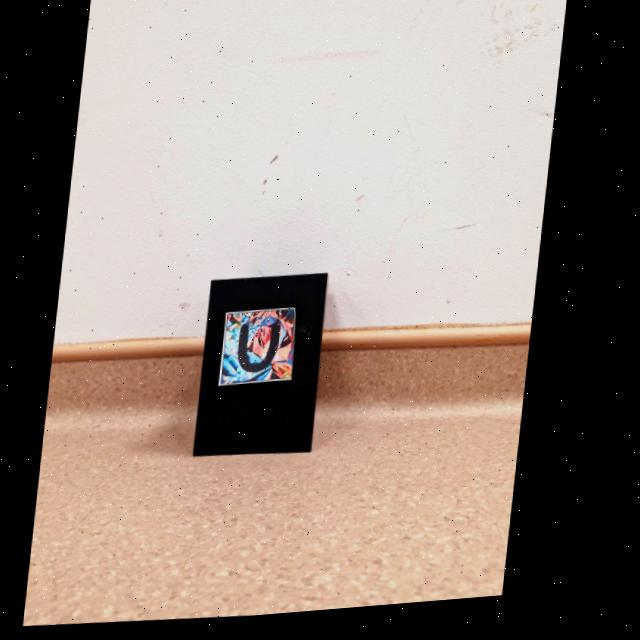U: (243, 328, 285, 377)
